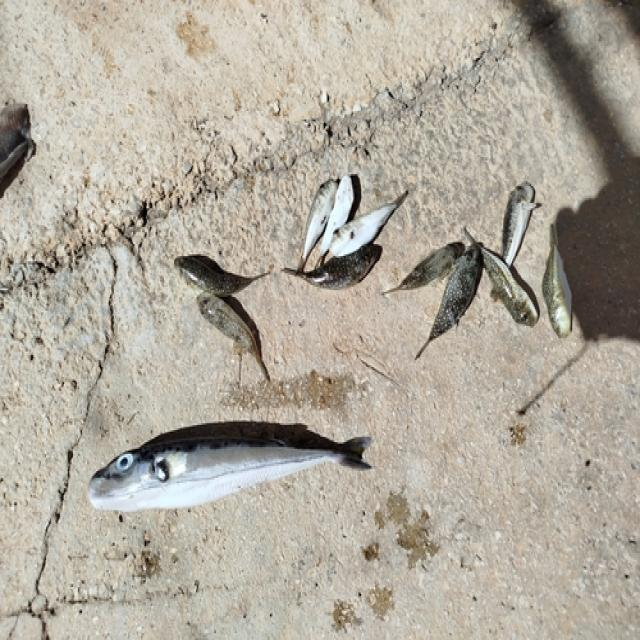Balik: (89, 425, 371, 511), (416, 245, 482, 360), (465, 229, 538, 325), (198, 292, 270, 380), (329, 192, 408, 257), (283, 245, 381, 290), (383, 243, 464, 295), (175, 255, 270, 296), (299, 180, 337, 271), (543, 224, 572, 337), (502, 183, 537, 266), (320, 175, 354, 257), (0, 105, 34, 180)
